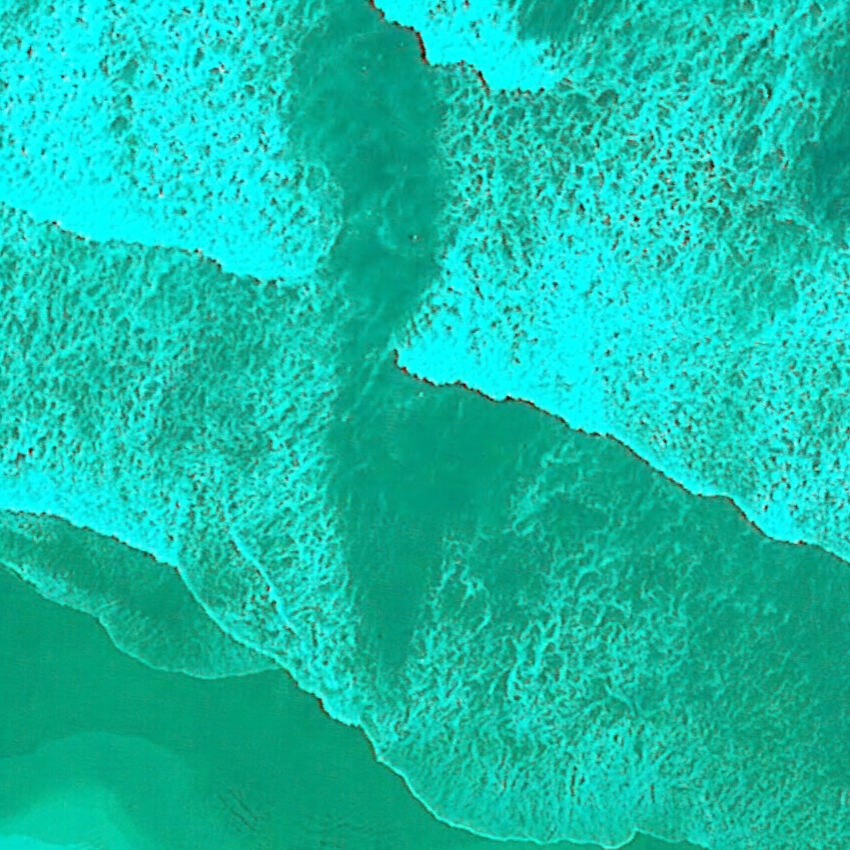rip_current: (226, 27, 546, 673)
